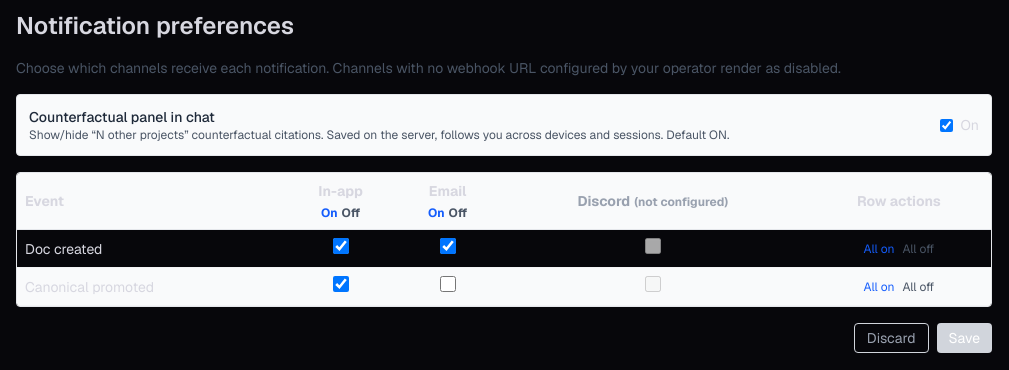
Test: NotificationPreferencesGrid › row bulk-on enables every REGISTERED channel for the event type
The image size is (1009, 370).
Click the button with test id "notif-pref-row-kb_canonical_promoted-enable-all".
click(879, 286)  # box [864,278,894,294]
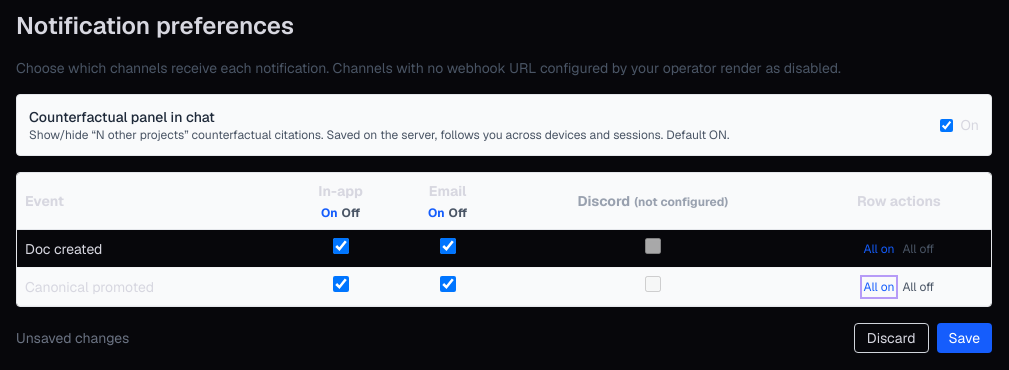
Check: the checkbox with test id "notif-pref-cell-kb_canonical_promoted-in_app-toggle" is checked, box [333,276,349,292]
Check: the checkbox with test id "notif-pref-cell-kb_canonical_promoted-email-toggle" is checked, box [440,276,456,292]
